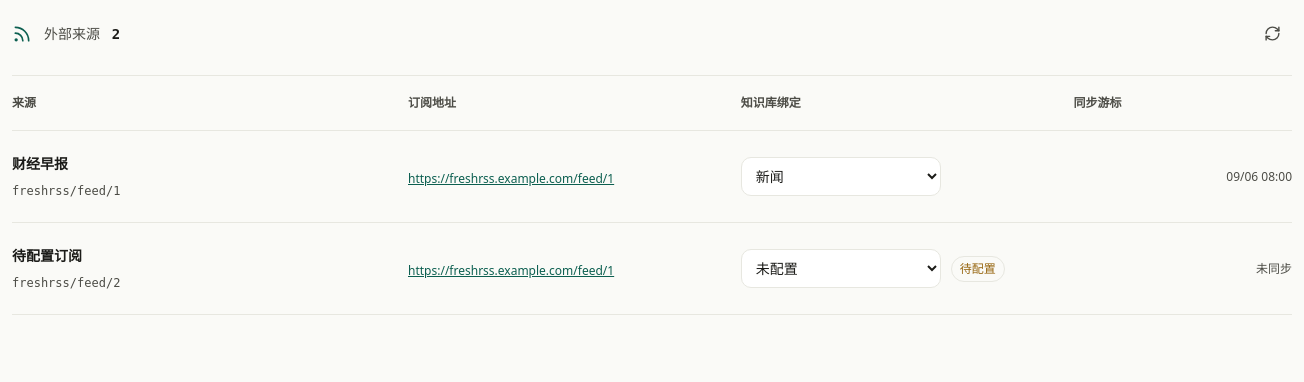
SourcesPage › restores the previous binding and keeps the row when the backend rejects
The width and height of the screenshot is (1304, 382).
Select "新闻" in the dropdown named "绑定来源 待配置订阅" at (841, 268), box [741,249,941,288]
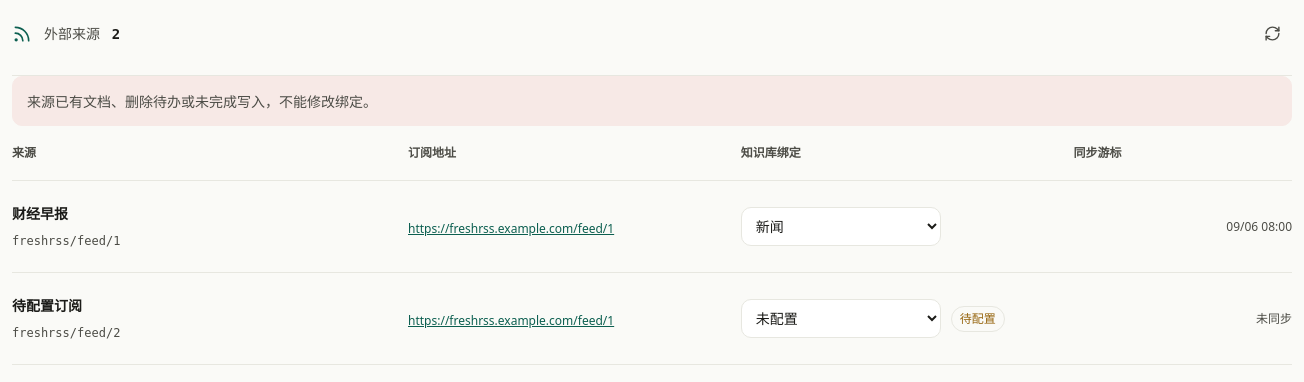
expect the text "待配置" is shown: met, box [951,306,1005,332]
expect the message "来源已有文档、删除待办或未完成写入，不能修改绑定。" is shown: met, box [12,76,1292,126]
